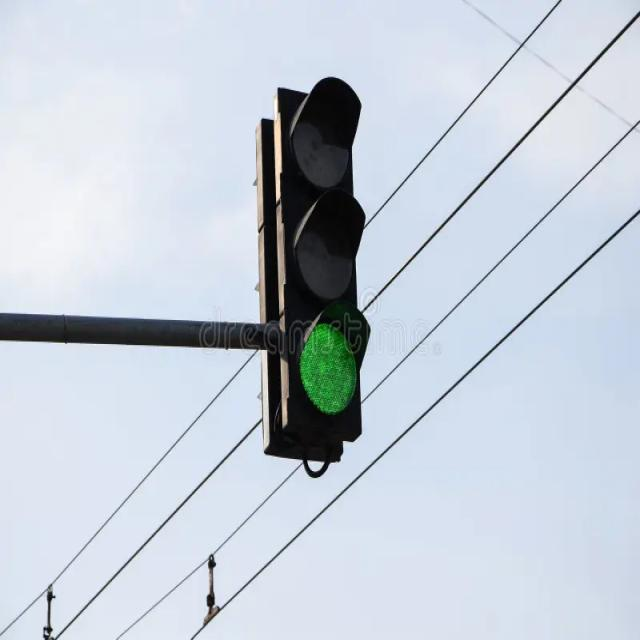green: (269, 288, 389, 424)
